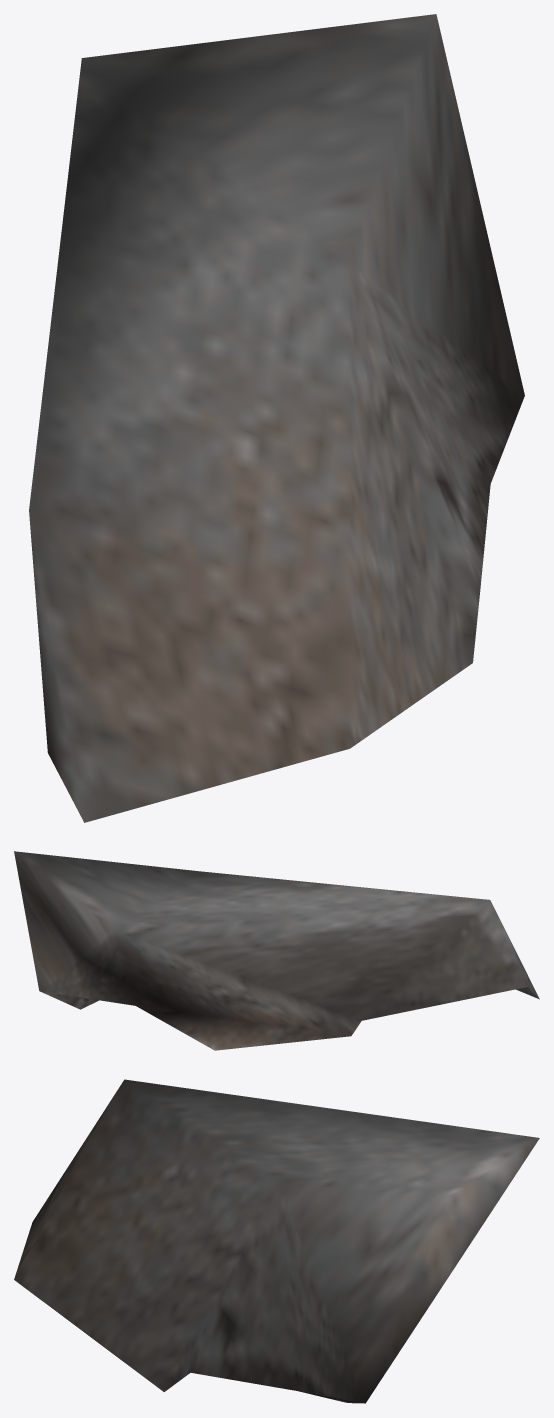
File: forest_rock_0.glb
The picture shows the model from 3 angles, top to bottom: view 1: azimuth 30°, elevation 25°; view 2: azimuth 150°, elevation 25°; view 3: azimuth 270°, elevation 25°; orthographic projection. The views are drawn at different scales.
Visible parts, largest first — view 1: Rocks_Rocks_0; view 2: Rocks_Rocks_0; view 3: Rocks_Rocks_0.
Boxes of the visible parts, x1=… form: Rocks_Rocks_0: x1=29, y1=14, x2=524, y2=822; Rocks_Rocks_0: x1=14, y1=851, x2=539, y2=1050; Rocks_Rocks_0: x1=14, y1=1079, x2=539, y2=1403.
Bounding box in the file's own units: 1.21 × 0.6762 × 1.28.
1 material, 1 textured.
